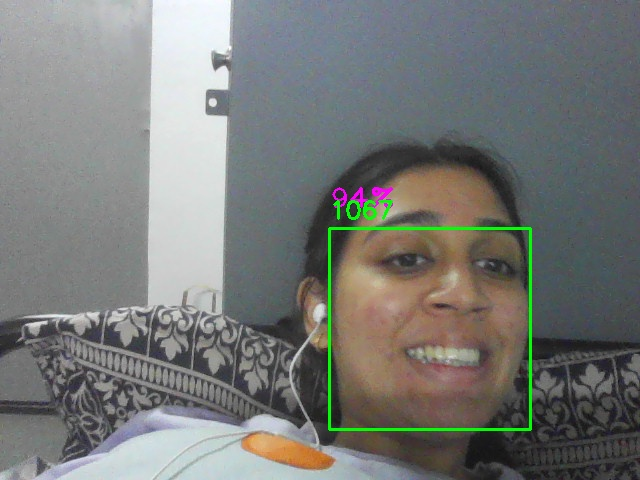real: (329, 228, 531, 430)
